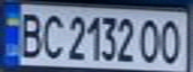1: (84, 12, 103, 62)
2: (63, 11, 87, 61), (115, 14, 139, 63)
3: (100, 14, 118, 62)
B: (15, 9, 45, 58)
C: (39, 10, 66, 61)
O: (157, 16, 187, 65), (136, 16, 163, 64)
